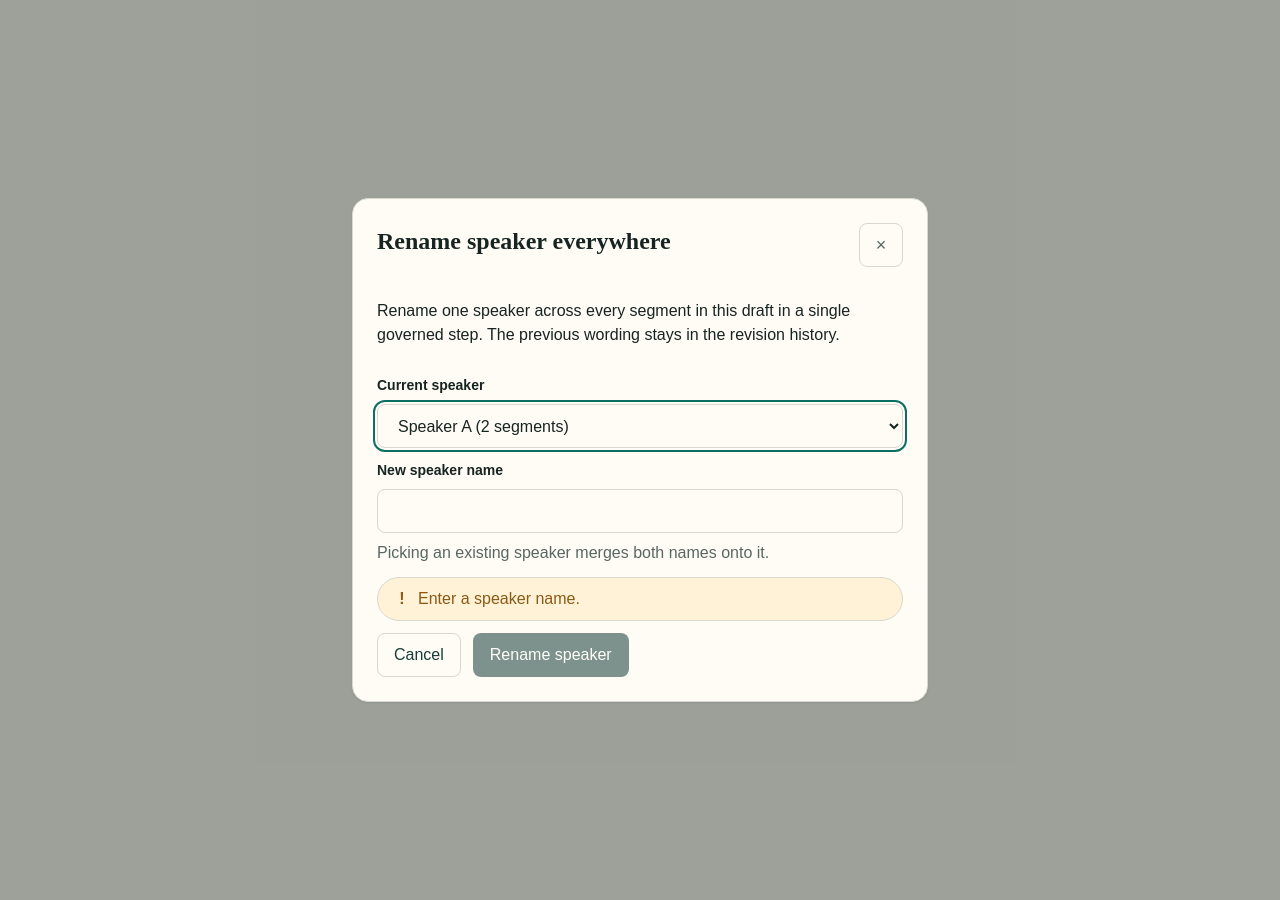
Test case: SpeakerRenameDialog › renders a failed confirm as an inline error
Type "Dana" into the field labelled "New speaker name".
click(640, 511); type("Dana")  # box [377, 489, 903, 533]
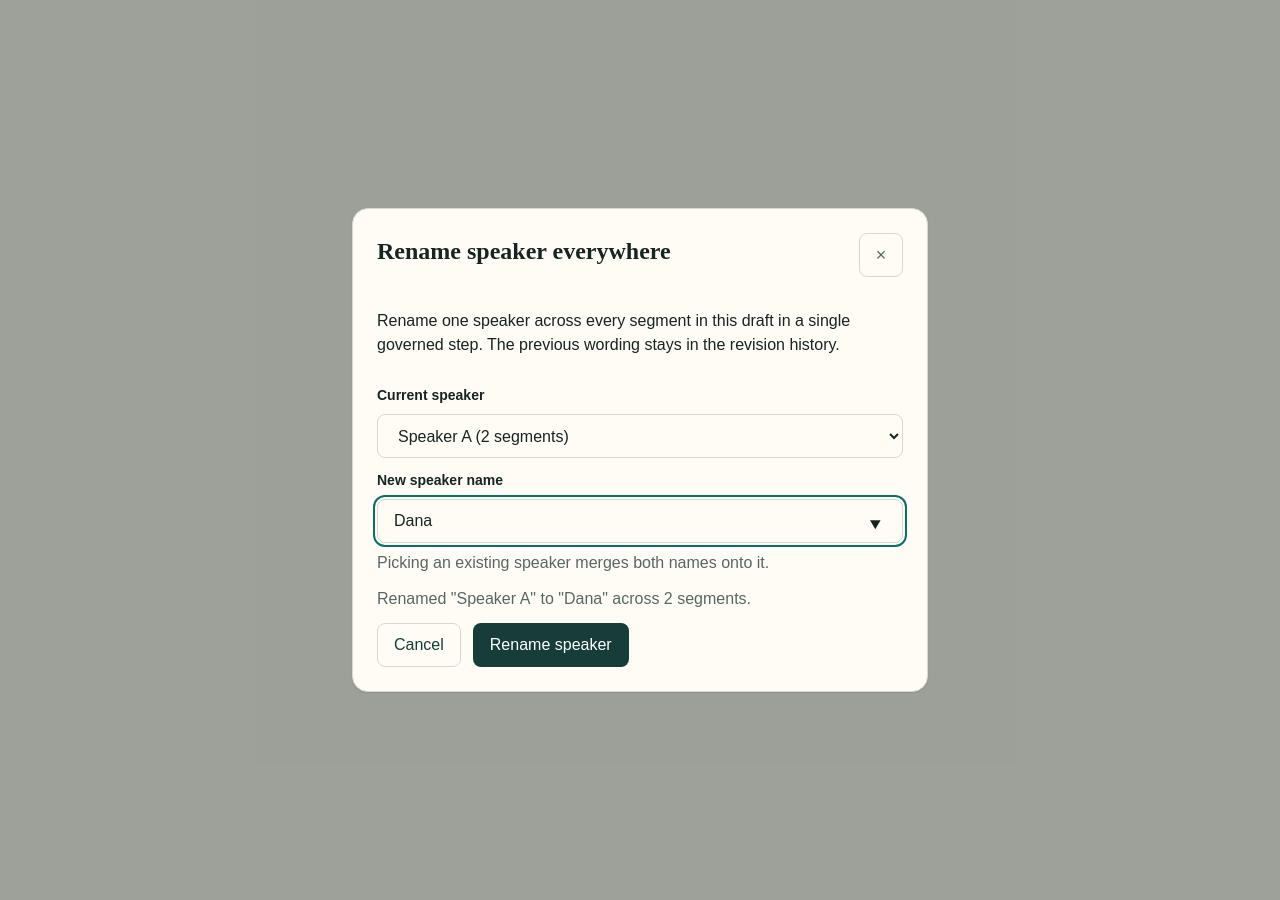
Click the button "Rename speaker".
click(551, 645)  # box [473, 623, 629, 667]
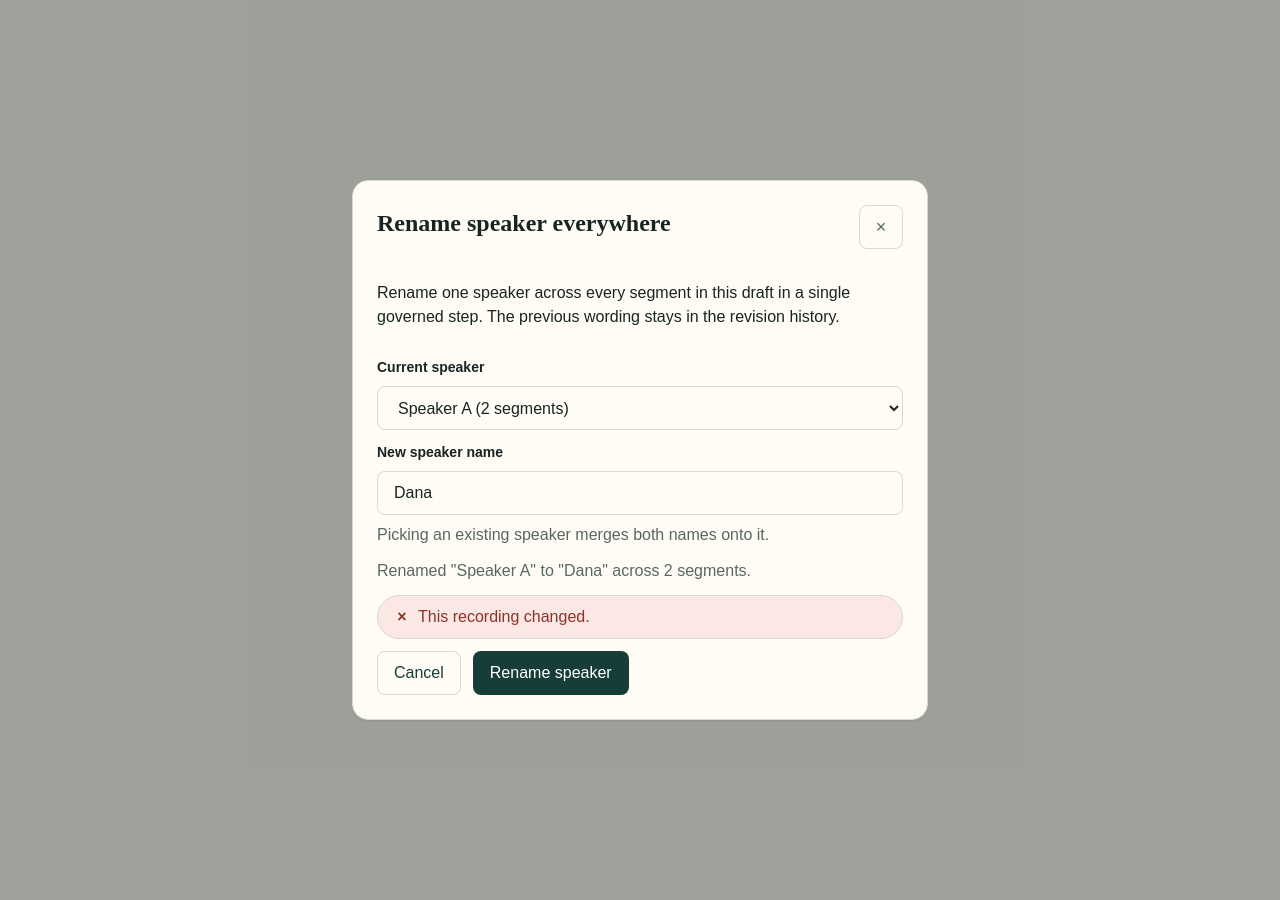
Now the text "This recording changed." is shown, box [418, 605, 590, 629]
